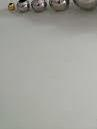ironball: (30, 0, 49, 14), (50, 0, 70, 12), (70, 0, 96, 8), (16, 0, 30, 13), (7, 1, 16, 13)
